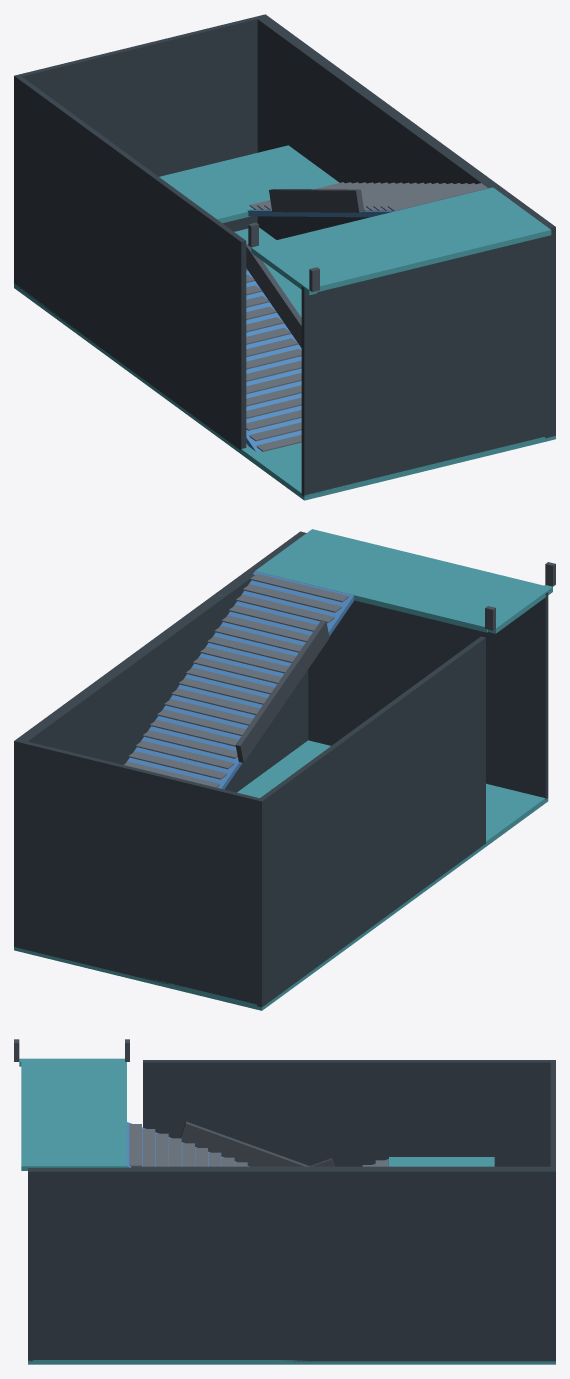
3 views of the same model, one above another, from view 1: azimuth 30°, elevation 25°; view 2: azimuth 150°, elevation 25°; view 3: azimuth 270°, elevation 25° (orthographic). The views are drawn at different scales.
Parts seen in each view (by area): view 1: Stair_Generic_Rotatable_EnclosureWall_Inner, Stair_Generic_Rotatable_EnclosureWall_DoorSide, Stair_Generic_Rotatable_EnclosureWall_Far, Stair_Generic_Rotatable_EnclosureWall_Outer, Stair_Generic_Rotatable_UpperDoorLanding_Walkable, Stair_Generic_Rotatable_TurnLanding_Walkable, Stair_Generic_Rotatable_LowerDoorLanding_Walkable, Stair_Generic_Rotatable_LowerFlight_Walkable, Stair_Generic_Rotatable_UpperFlight_Guard_02, Stair_Generic_Rotatable_LowerFlight_Guard_02, Stair_Generic_Rotatable_UpperFlight_Walkable, Stair_Generic_Rotatable_CoreConnector_Walkable (+1 smaller); view 2: Stair_Generic_Rotatable_EnclosureWall_Far, Stair_Generic_Rotatable_EnclosureWall_Inner, Stair_Generic_Rotatable_EnclosureWall_DoorSide, Stair_Generic_Rotatable_EnclosureWall_Outer, Stair_Generic_Rotatable_UpperDoorLanding_Walkable, Stair_Generic_Rotatable_UpperFlight_Walkable, Stair_Generic_Rotatable_LowerDoorLanding_Walkable, Stair_Generic_Rotatable_UpperFlight_Guard_02, Stair_Generic_Rotatable_ROOT_UpperFlight_Tread_01, Stair_Generic_Rotatable_ROOT_UpperFlight_Tread_17, Stair_Generic_Rotatable_ROOT_UpperFlight_Tread_18, Stair_Generic_Rotatable_ROOT_UpperFlight_Tread_02 (+15 smaller); view 3: Stair_Generic_Rotatable_EnclosureWall_Outer, Stair_Generic_Rotatable_EnclosureWall_Inner, Stair_Generic_Rotatable_UpperDoorLanding_Walkable, Stair_Generic_Rotatable_LowerDoorLanding_Walkable, Stair_Generic_Rotatable_UpperFlight_Guard_02, Stair_Generic_Rotatable_EnclosureWall_DoorSide, Stair_Generic_Rotatable_TurnLanding_Walkable, Stair_Generic_Rotatable_EnclosureWall_Far, Stair_Generic_Rotatable_ROOT_UpperFlight_Tread_01, Stair_Generic_Rotatable_ROOT_UpperFlight_Tread_02, Stair_Generic_Rotatable_ROOT_UpperFlight_Tread_03, Stair_Generic_Rotatable_CoreConnector_Walkable.
Boxes of the visible parts, x1,y1,x2,y2 form: Stair_Generic_Rotatable_EnclosureWall_Inner: (14,75,246,450); Stair_Generic_Rotatable_EnclosureWall_DoorSide: (301,225,555,496); Stair_Generic_Rotatable_EnclosureWall_Far: (15,14,267,231); Stair_Generic_Rotatable_EnclosureWall_Outer: (255,15,555,438); Stair_Generic_Rotatable_UpperDoorLanding_Walkable: (259,187,551,291); Stair_Generic_Rotatable_TurnLanding_Walkable: (159,145,339,223); Stair_Generic_Rotatable_LowerDoorLanding_Walkable: (14,227,555,500); Stair_Generic_Rotatable_LowerFlight_Walkable: (246,270,301,451); Stair_Generic_Rotatable_UpperFlight_Guard_02: (269,189,364,212); Stair_Generic_Rotatable_LowerFlight_Guard_02: (246,244,301,347); Stair_Generic_Rotatable_UpperFlight_Walkable: (247,187,490,217); Stair_Generic_Rotatable_CoreConnector_Walkable: (251,245,317,295); Stair_Generic_Rotatable_EnclosureWall_Far: (14,739,264,1004); Stair_Generic_Rotatable_EnclosureWall_Inner: (257,636,485,1007); Stair_Generic_Rotatable_EnclosureWall_DoorSide: (298,531,548,799); Stair_Generic_Rotatable_EnclosureWall_Outer: (17,532,308,792); Stair_Generic_Rotatable_UpperDoorLanding_Walkable: (255,529,543,632); Stair_Generic_Rotatable_UpperFlight_Walkable: (126,571,353,789); Stair_Generic_Rotatable_LowerDoorLanding_Walkable: (14,740,548,1010); Stair_Generic_Rotatable_UpperFlight_Guard_02: (235,620,329,762); Stair_Generic_Rotatable_ROOT_UpperFlight_Tread_01: (250,573,349,602); Stair_Generic_Rotatable_ROOT_UpperFlight_Tread_17: (135,740,234,769); Stair_Generic_Rotatable_ROOT_UpperFlight_Tread_18: (128,751,227,779); Stair_Generic_Rotatable_ROOT_UpperFlight_Tread_02: (243,584,341,612); Stair_Generic_Rotatable_EnclosureWall_Outer: (28,1166,555,1361); Stair_Generic_Rotatable_EnclosureWall_Inner: (143,1060,553,1166); Stair_Generic_Rotatable_UpperDoorLanding_Walkable: (21,1062,126,1170); Stair_Generic_Rotatable_LowerDoorLanding_Walkable: (28,1360,555,1364); Stair_Generic_Rotatable_UpperFlight_Guard_02: (180,1121,310,1166); Stair_Generic_Rotatable_EnclosureWall_DoorSide: (28,1168,33,1361); Stair_Generic_Rotatable_TurnLanding_Walkable: (389,1157,494,1166); Stair_Generic_Rotatable_EnclosureWall_Far: (550,1060,555,1171); Stair_Generic_Rotatable_ROOT_UpperFlight_Tread_01: (129,1124,141,1166); Stair_Generic_Rotatable_ROOT_UpperFlight_Tread_02: (142,1129,155,1166); Stair_Generic_Rotatable_ROOT_UpperFlight_Tread_03: (156,1133,168,1166); Stair_Generic_Rotatable_CoreConnector_Walkable: (19,1058,124,1066).
Size of the model in its own units: 15 by 13.47 by 30.8.
